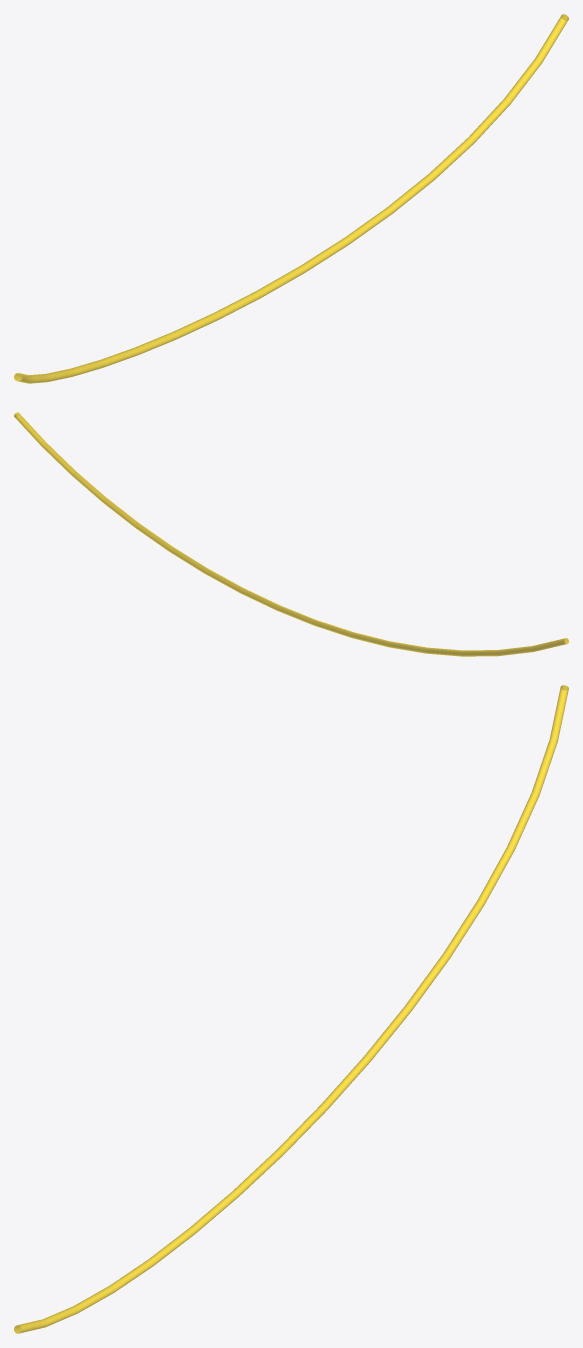
Rendered from Event_17758602_track_72.fbx.
The picture shows the model from 3 angles, top to bottom: view 1: azimuth 90°, elevation 25°; view 2: azimuth 150°, elevation 25°; view 3: azimuth 270°, elevation 25°; orthographic projection. The views are drawn at different scales.
Visible parts, largest first — view 1: Model; view 2: Model; view 3: Model.
Part boxes in pixels (box(x1,y1,x2,y2)): Model: box(14, 14, 568, 383); Model: box(14, 412, 568, 656); Model: box(14, 685, 568, 1333).
Size of the model in its own units: 5.57 by 1.01 by 2.6.
